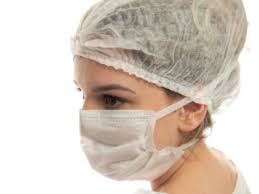with_mask_and_cap: (74, 1, 209, 179)
